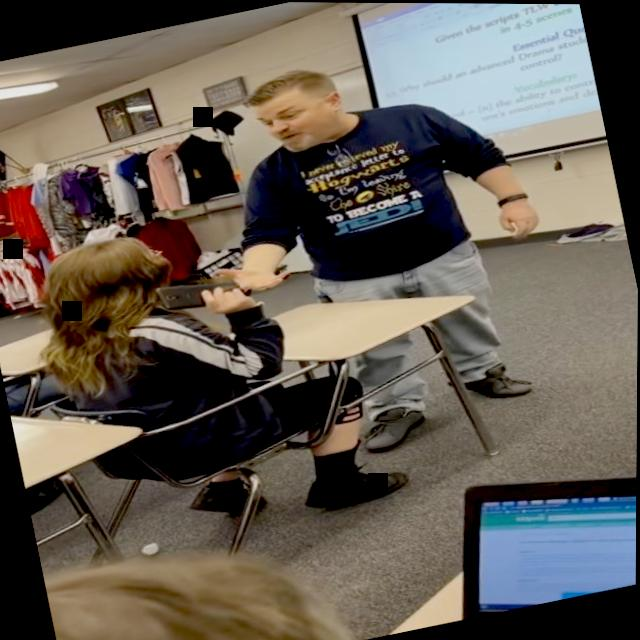NO-Mask: (242, 64, 355, 161)
